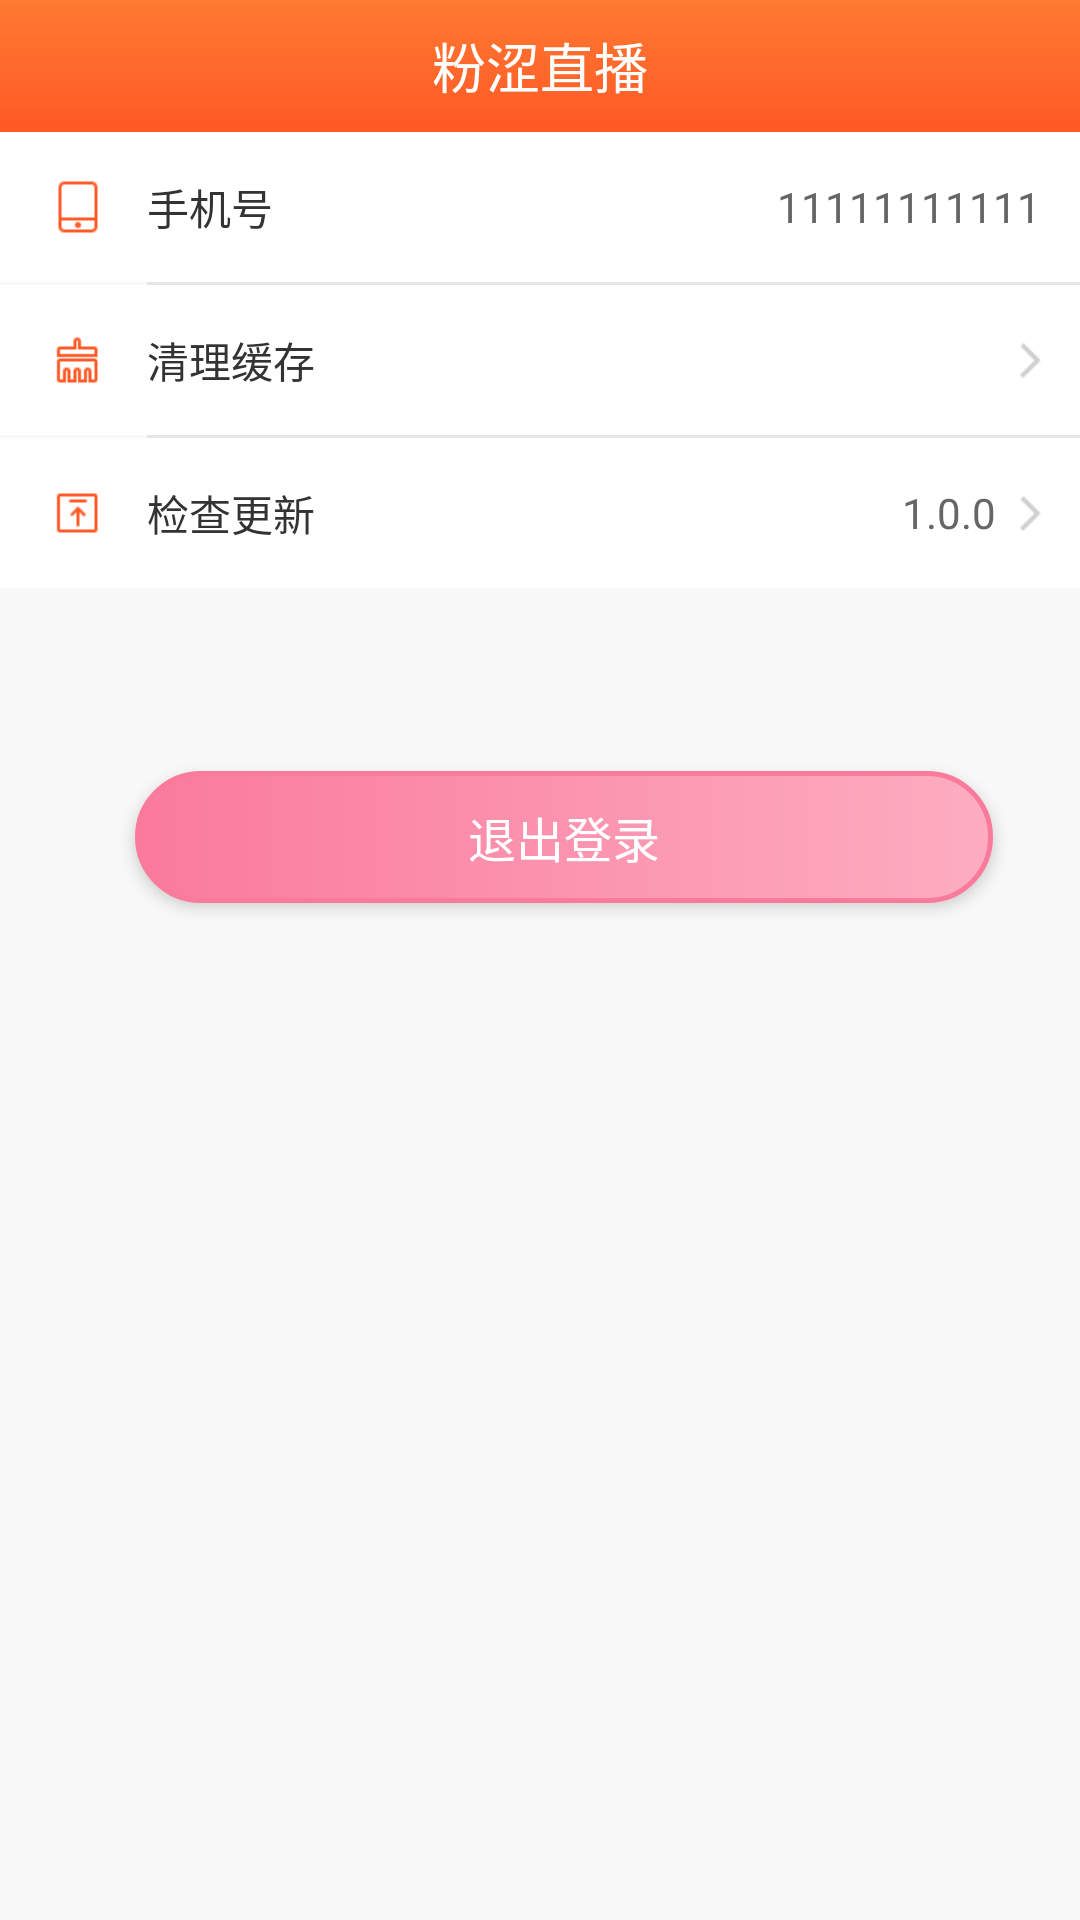

Screen size 1080w x 1920h. Icon name, then its box in pixels as (x1=x1, y1=y1, x2=x2, y2=y2):
cache: (x1=56, y1=337, x2=98, y2=383)
iphone: (x1=58, y1=181, x2=98, y2=233)
update: (x1=56, y1=493, x2=98, y2=533)
